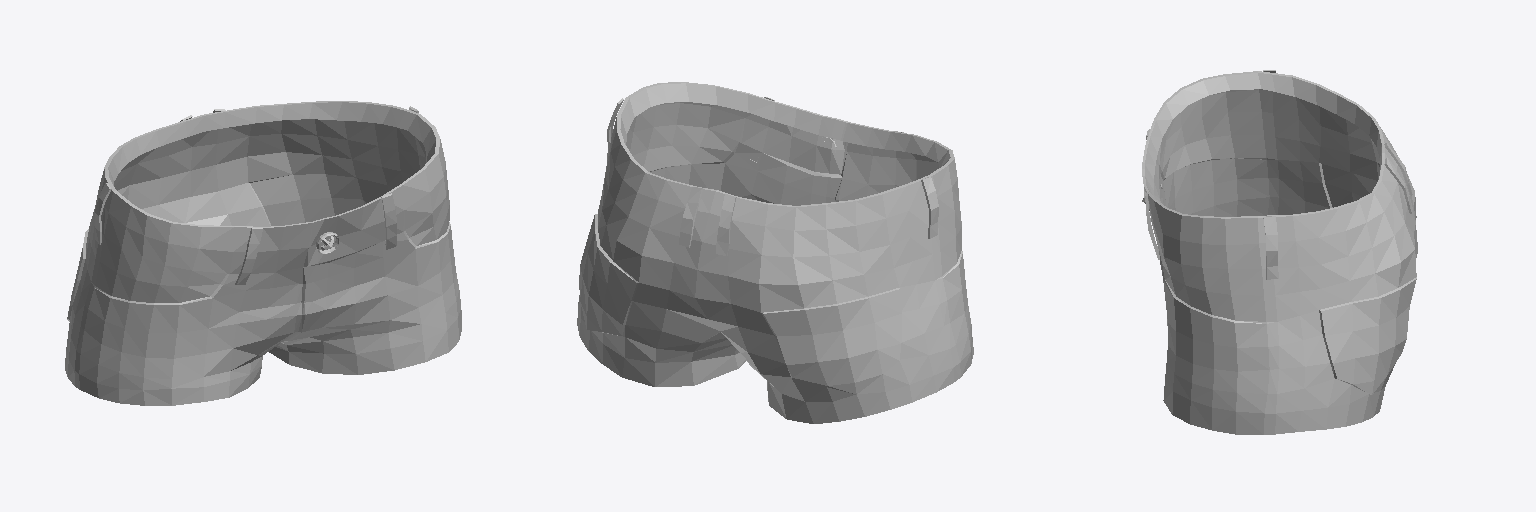
The model's file is shortpants.obj.
3 views of the same model, side by side, from view 1: azimuth 30°, elevation 25°; view 2: azimuth 150°, elevation 25°; view 3: azimuth 270°, elevation 25° (orthographic).
Visible parts, largest first — view 1: Low-rise Shorts; view 2: Low-rise Shorts; view 3: Low-rise Shorts.
Part boxes in pixels (bbox=[...]): Low-rise Shorts: bbox=[65, 101, 461, 405]; Low-rise Shorts: bbox=[577, 82, 973, 423]; Low-rise Shorts: bbox=[1142, 70, 1417, 434].
Bounding box in the file's own units: 38.21 × 22.58 × 24.79.